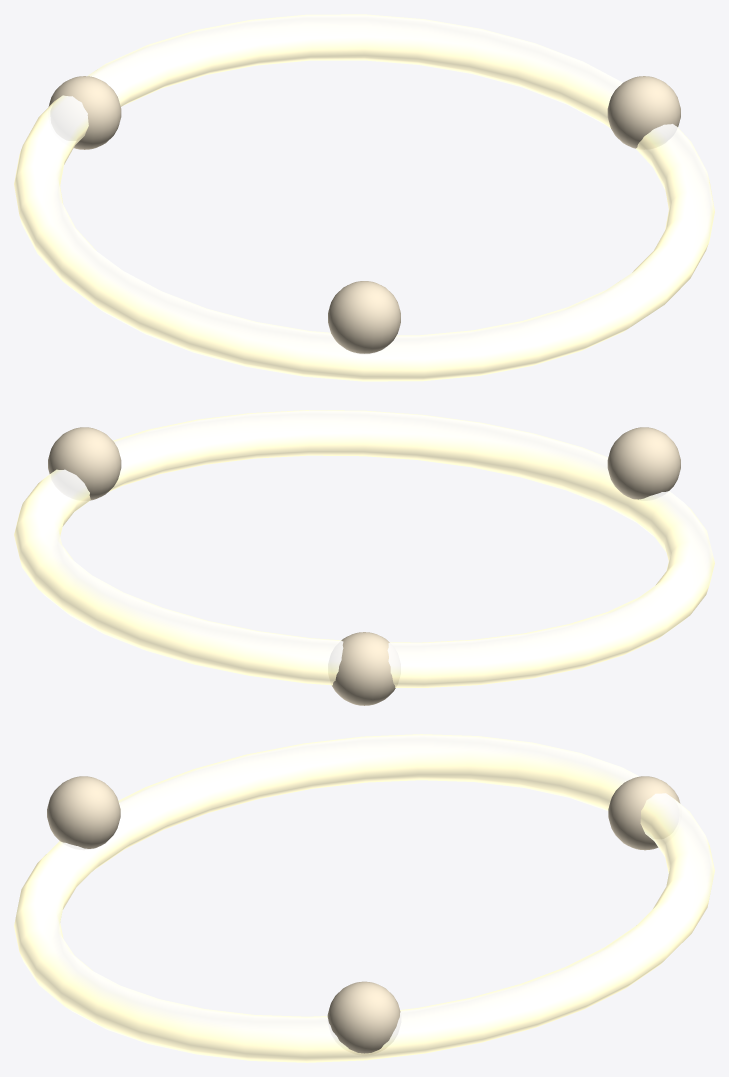
File: halo.glb
The picture shows the model from 3 angles, top to bottom: view 1: azimuth 30°, elevation 25°; view 2: azimuth 150°, elevation 25°; view 3: azimuth 270°, elevation 25°; orthographic projection.
Parts seen in each view (by area): view 1: CrownHalo, _MeshInstance3D_25, HaloPearl, _MeshInstance3D_26; view 2: CrownHalo, _MeshInstance3D_25, _MeshInstance3D_26, HaloPearl; view 3: CrownHalo, _MeshInstance3D_25, HaloPearl, _MeshInstance3D_26.
Part boxes in pixels (<box>): CrownHalo: <box>14,14,714,381</box>; _MeshInstance3D_25: <box>328,281,400,353</box>; HaloPearl: <box>607,76,680,148</box>; _MeshInstance3D_26: <box>48,76,121,149</box>; CrownHalo: <box>14,410,714,687</box>; _MeshInstance3D_25: <box>607,427,680,499</box>; _MeshInstance3D_26: <box>332,632,395,705</box>; HaloPearl: <box>48,427,121,500</box>; CrownHalo: <box>14,734,714,1062</box>; _MeshInstance3D_25: <box>47,776,120,848</box>; HaloPearl: <box>327,981,400,1053</box>; _MeshInstance3D_26: <box>608,776,680,850</box>.
Size of the model in its own units: 0.077 by 0.0116 by 0.0757.
